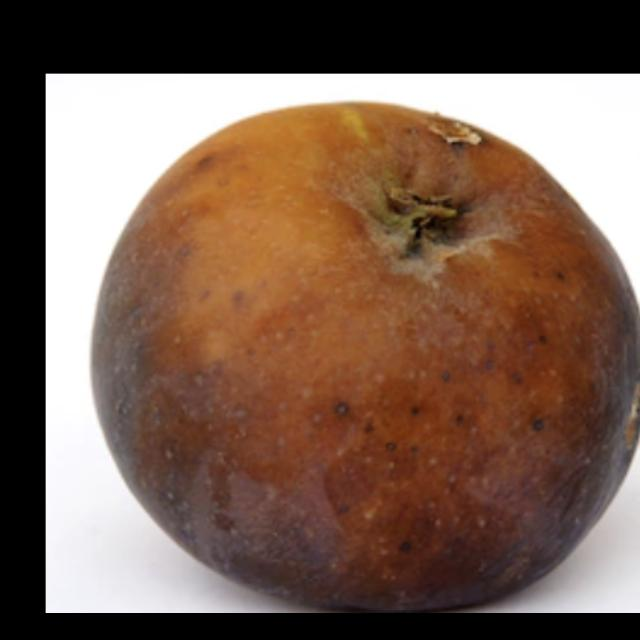Apel Tidak Segar: (78, 98, 640, 612)
